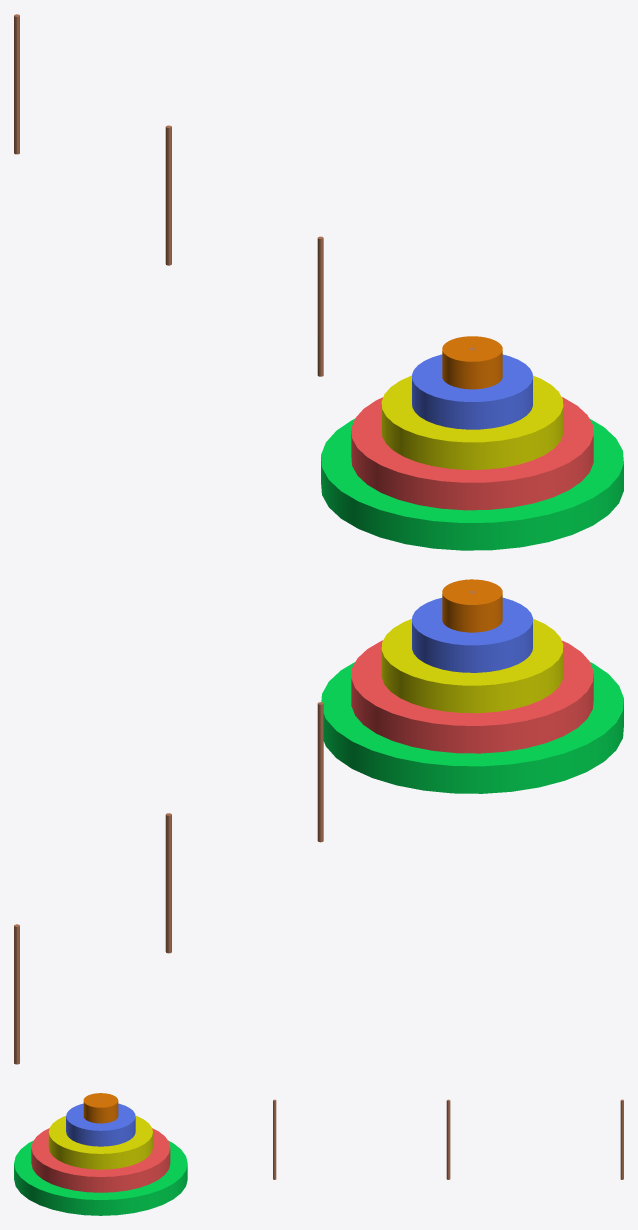
File: hanoi.fbx
3 renders of one model, top to bottom at view 1: azimuth 30°, elevation 25°; view 2: azimuth 150°, elevation 25°; view 3: azimuth 270°, elevation 25°, orthographic. The views are drawn at different scales.
Visible parts, largest first — view 1: Cylinder.004, Cylinder.005, Cylinder.006, Cylinder.007, Cylinder.008, Cylinder.001, Cylinder.002, Cylinder.003; view 2: Cylinder.004, Cylinder.005, Cylinder.006, Cylinder.007, Cylinder.008, Cylinder.002, Cylinder.001, Cylinder.003; view 3: Cylinder.004, Cylinder.005, Cylinder.006, Cylinder.007, Cylinder.008, Cylinder.002, Cylinder.001, Cylinder.003.
Boxes of the visible parts, x1,y1,x2,y2 form: Cylinder.004: (321,418,623,550); Cylinder.005: (351,397,593,510); Cylinder.006: (381,375,563,469); Cylinder.007: (412,354,532,429); Cylinder.008: (442,336,502,389); Cylinder.001: (317,236,323,376); Cylinder.002: (165,125,171,265); Cylinder.003: (14,14,19,154); Cylinder.004: (321,662,623,793); Cylinder.005: (351,640,593,753); Cylinder.006: (381,618,563,713); Cylinder.007: (412,597,532,672); Cylinder.008: (442,579,502,632); Cylinder.002: (165,813,171,953); Cylinder.001: (317,702,323,842); Cylinder.003: (14,924,19,1064); Cylinder.004: (14,1140,187,1215); Cylinder.005: (31,1128,170,1192); Cylinder.006: (48,1116,152,1169); Cylinder.007: (66,1103,135,1146); Cylinder.008: (83,1093,118,1123); Cylinder.002: (446,1099,450,1179); Cylinder.001: (273,1099,276,1179); Cylinder.003: (620,1099,623,1179).
Size of the model in its own units: 100 by 50 by 351.
